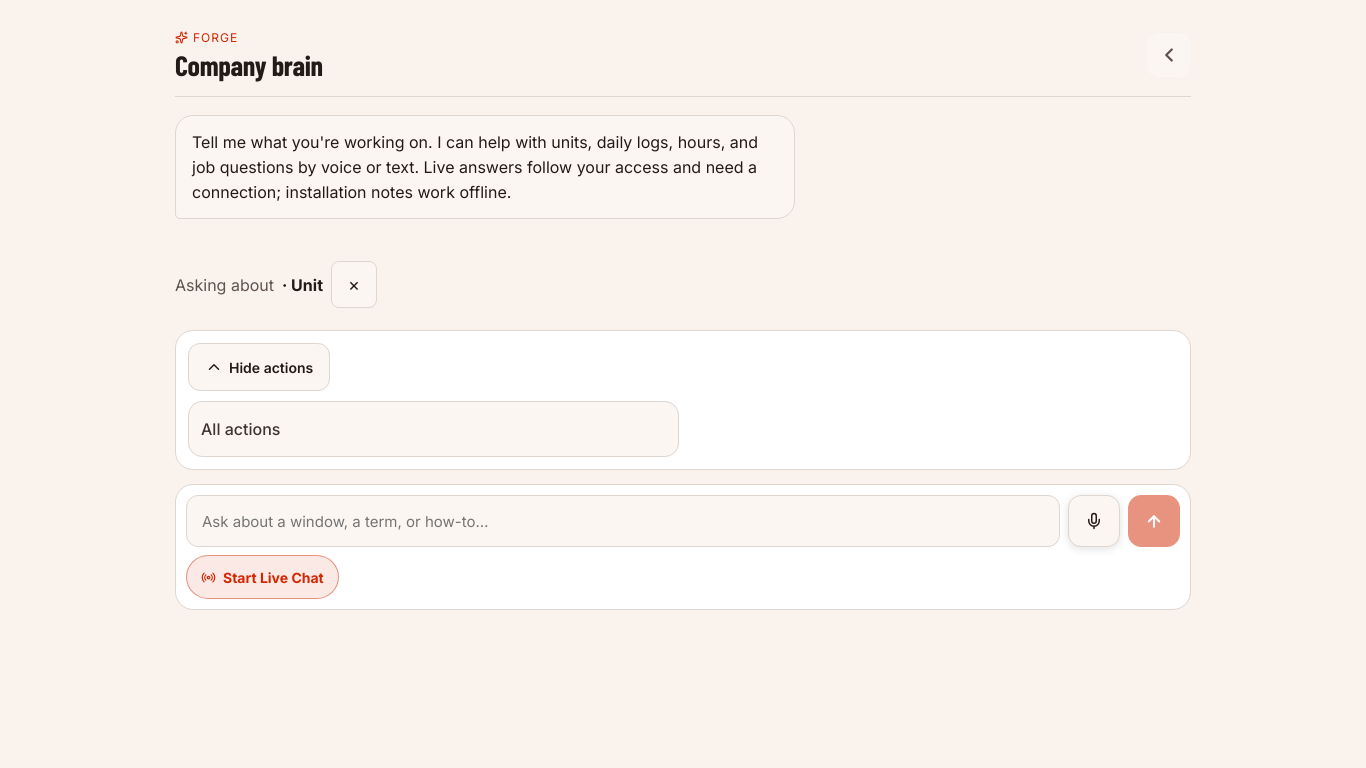
Live Ask on the Ask page › offers a manual AI issue report after a failed live session
Click the button "Start Live Chat".
click(262, 577)  # box [186,555,339,599]
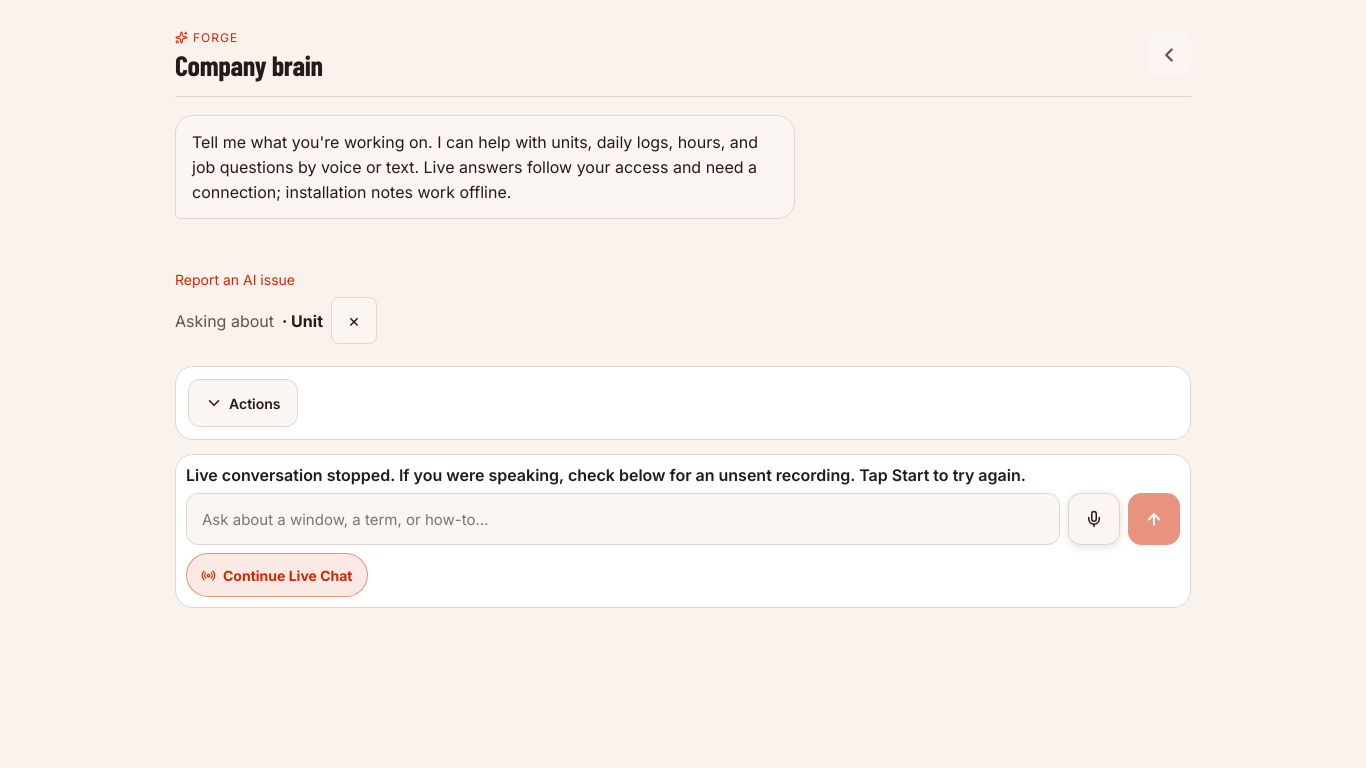
Check: the text "Report an AI issue" is shown
Click the button "Report an AI issue".
click(235, 279)  # box [175,261,295,297]
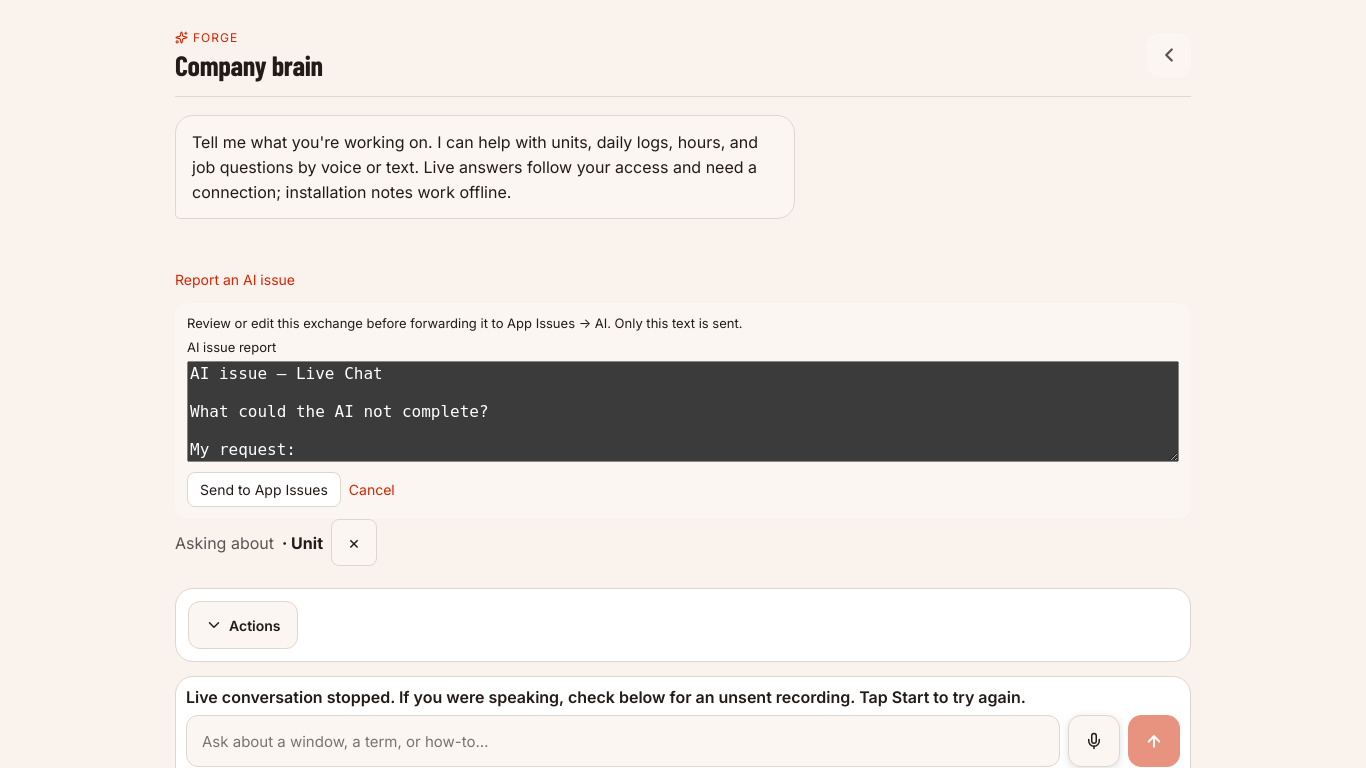
Check: the text "Only this text is sent." is shown, box [187,315,742,331]
